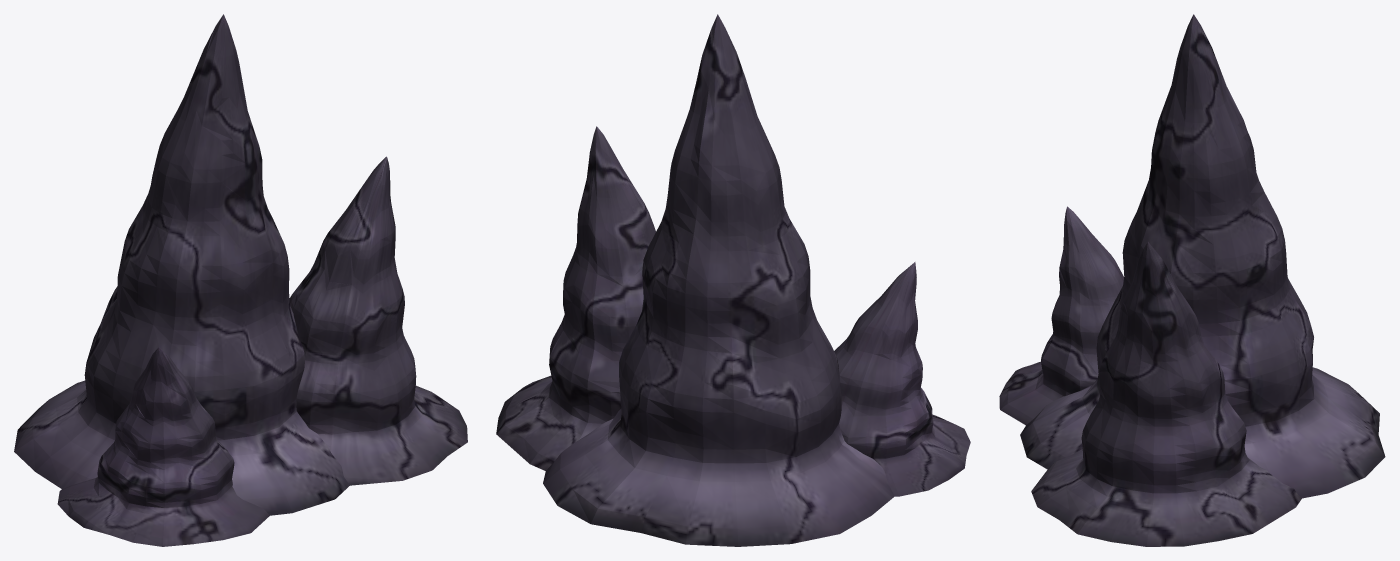
The model's file is estalagmite_c_v01.glb.
3 renders of one model, left to right at view 1: azimuth 30°, elevation 25°; view 2: azimuth 150°, elevation 25°; view 3: azimuth 270°, elevation 25°, orthographic. The views are drawn at different scales.
Visible parts, largest first — view 1: estalagmite_c; view 2: estalagmite_c; view 3: estalagmite_c.
Boxes of the visible parts, x1=… form: estalagmite_c: x1=14, y1=14, x2=467, y2=546; estalagmite_c: x1=496, y1=14, x2=970, y2=546; estalagmite_c: x1=999, y1=14, x2=1385, y2=546.
Bounding box in the file's own units: 1.32 × 1.35 × 1.1.
1 material, 1 textured.
